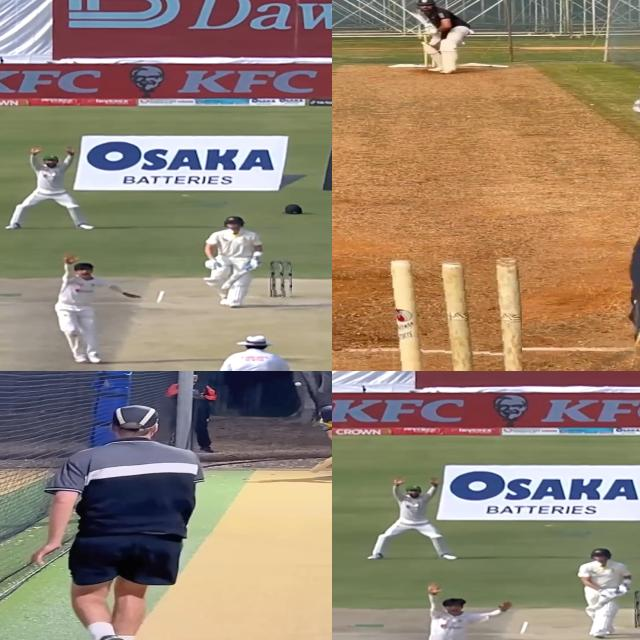Cricket ball: (293, 381, 303, 387)
Stumps: (380, 256, 522, 371), (269, 260, 292, 298), (633, 590, 640, 628)
